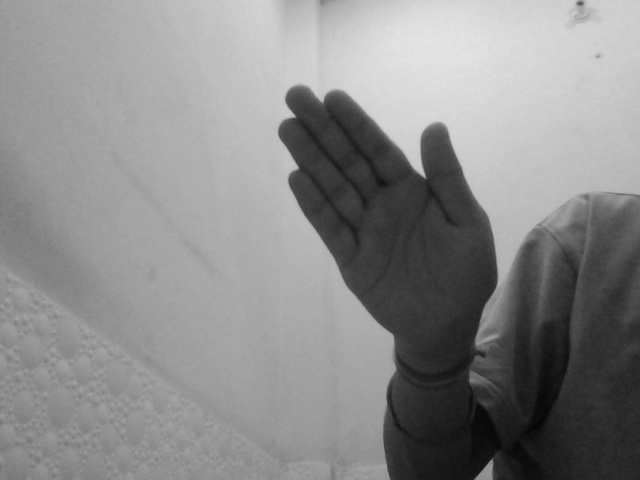Hello: (272, 82, 500, 346)
